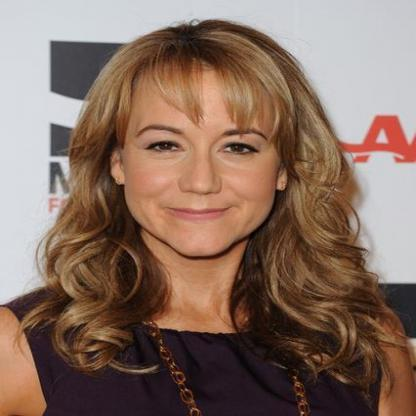long-hair: (26, 260, 384, 340)
